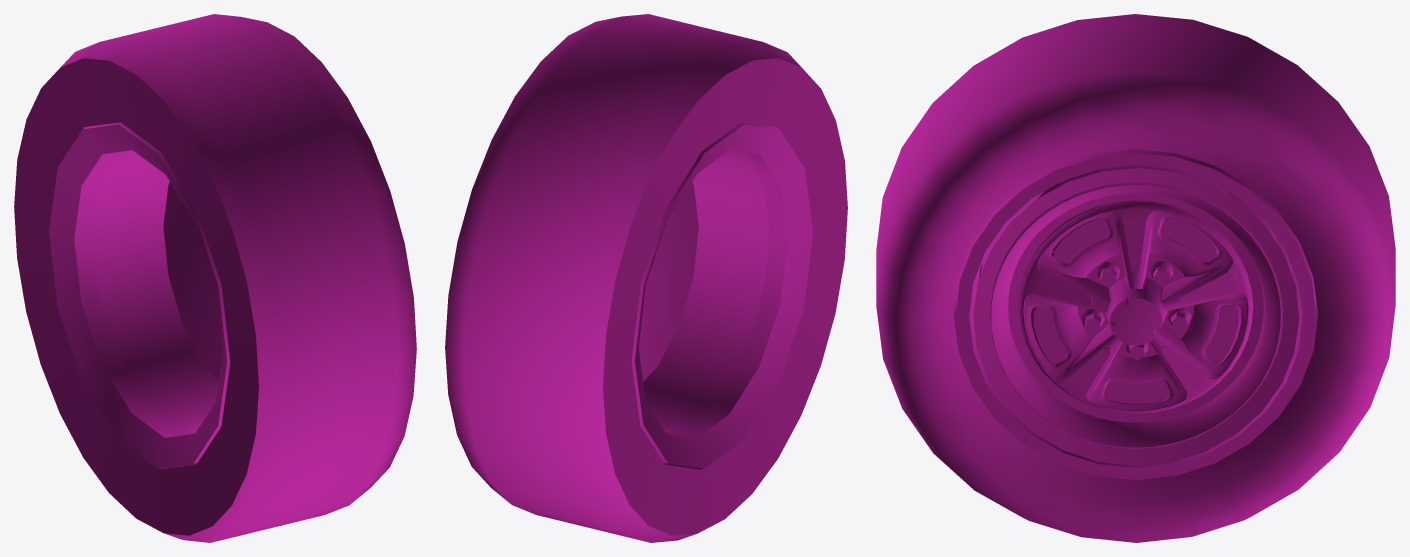
Rendered from Llanta_TI.obj.
3 views of the same model, side by side, from view 1: azimuth 30°, elevation 25°; view 2: azimuth 150°, elevation 25°; view 3: azimuth 270°, elevation 25° (orthographic).
Parts seen in each view (by area): view 1: wheel02_pivot; view 2: wheel02_pivot; view 3: wheel02_pivot.
Boxes of the visible parts, <box> form: wheel02_pivot: <box>14,14,416,542</box>; wheel02_pivot: <box>445,14,847,542</box>; wheel02_pivot: <box>876,14,1395,542</box>.
Bounding box in the file's own units: 2.31 × 6.14 × 6.14.
